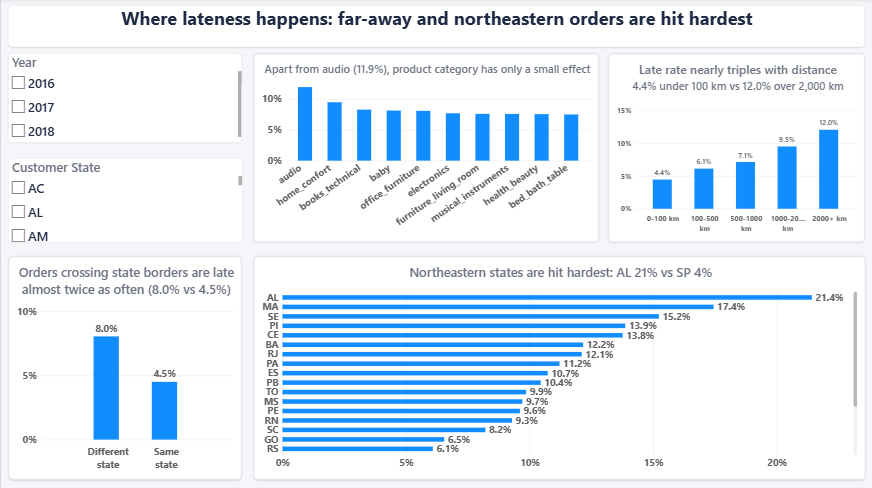

This screenshot's page, from the dashboard's own definition file:
{"tool":"powerbi","page":{"name":"Delay drivers","canvas":[1920,1080],"ordinal":1},"visuals":[{"type":"slicer","fields":{"Values":["order_analysis.customer_state"]},"box":[15.1,352.8,516.5,186.5],"z":0},{"type":"barChart","title":"Northeastern states are hit hardest: AL 21% vs SP 4%","fields":{"Category":["order_analysis.customer_state"],"Y":["order_analysis.Late rate"]},"box":[554.3,569.4,1350.6,493.9],"z":1000},{"type":"slicer","fields":{"Values":["order_analysis.order_purchase_timestamp.Variation.Date Hierarchy.Year"]},"box":[15.1,120.9,515.8,198.4],"z":2000},{"type":"textbox","title":"Where lateness happens: far-away and northeastern orders are hit hardest","box":[15.4,15.4,1888.9,92.6],"z":3000},{"type":"columnChart","title":"Late rate nearly triples with distance","fields":{"Category":["order_analysis.distance_band"],"Y":["order_analysis.Late rate"]},"box":[1338,120.9,566.9,418.3],"z":4000},{"type":"columnChart","title":"Apart from audio (11.9%), product category has only a small effect","fields":{"Category":["order_analysis.product_category"],"Y":["order_analysis.Late Rate (min 200 orders)"]},"box":[554.3,120.9,763.5,418.3],"z":5000},{"type":"clusteredColumnChart","title":"Orders crossing state borders are late almost twice as often (8.0% vs 4.5%)","fields":{"Category":["order_analysis.route_type"],"Y":["order_analysis.Late rate"]},"box":[15.4,568.7,515.8,493.7],"z":6000}]}

Visuals, with their boxes in screenshot pixels (x1, y1, x2, y2), scaled from the page's 1920x1080 canvas onto the 872x488 screenshot:
slicer - order_analysis.customer_state: BBox(7, 159, 241, 244)
"Northeastern states are hit hardest: AL 21% vs SP 4%" barChart: BBox(252, 257, 865, 480)
slicer - order_analysis.order_purchase_timestamp.Variation.Date Hierarchy.Year: BBox(7, 55, 241, 144)
"Where lateness happens: far-away and northeastern orders are hit hardest" textbox: BBox(7, 7, 865, 49)
"Late rate nearly triples with distance" columnChart: BBox(608, 55, 865, 244)
"Apart from audio (11.9%), product category has only a small effect" columnChart: BBox(252, 55, 599, 244)
"Orders crossing state borders are late almost twice as often (8.0% vs 4.5%)" clusteredColumnChart: BBox(7, 257, 241, 480)
